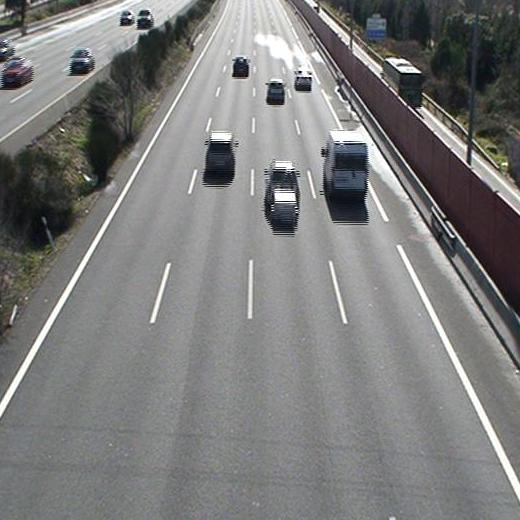car: (266, 161, 300, 226), (204, 131, 236, 177), (266, 78, 285, 102), (231, 55, 249, 78), (295, 69, 312, 91)
van: (323, 131, 369, 202)
